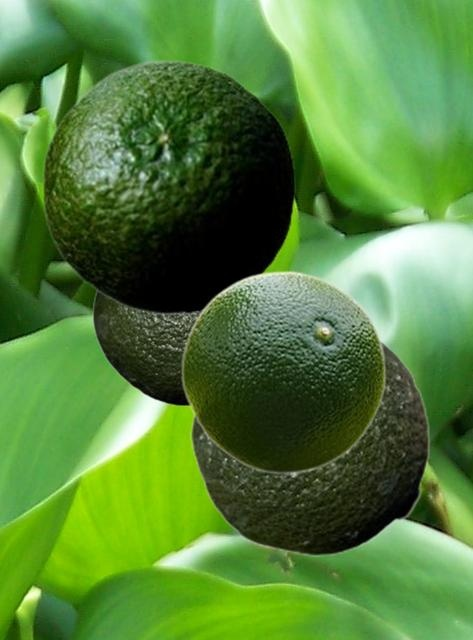calamansi: (41, 59, 294, 314), (190, 337, 429, 555), (180, 270, 386, 473), (92, 290, 197, 405)
